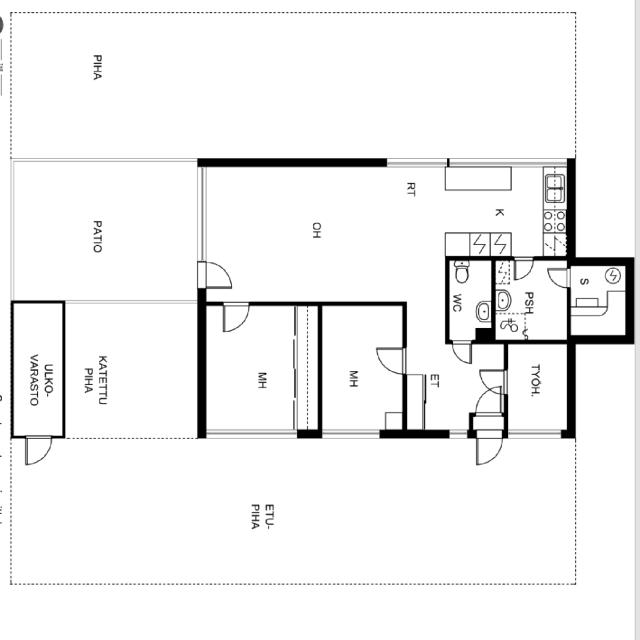door: (198, 259, 237, 291), (474, 431, 504, 467), (374, 345, 409, 375), (473, 384, 504, 416), (476, 368, 509, 398), (222, 302, 250, 334), (546, 265, 574, 290), (511, 255, 536, 281), (451, 339, 474, 366)
window: (193, 166, 211, 265), (207, 426, 298, 440), (381, 156, 449, 170), (319, 426, 384, 440), (506, 426, 566, 440), (446, 428, 470, 440), (1, 31, 7, 68)
zone: (198, 160, 445, 306), (203, 302, 297, 434), (440, 164, 568, 256), (320, 303, 405, 433), (408, 340, 508, 433), (10, 299, 64, 439), (493, 258, 570, 341), (504, 342, 570, 433), (568, 260, 628, 341), (447, 257, 492, 339), (544, 165, 570, 257), (23, 433, 53, 468)
